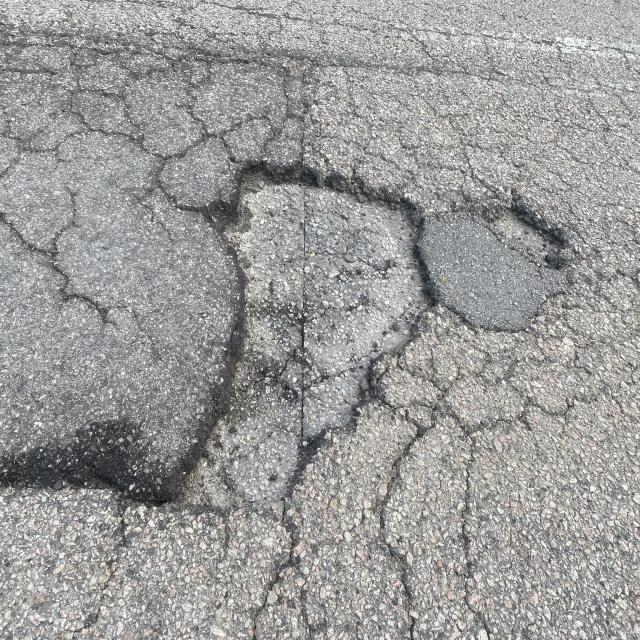pothole: (188, 113, 590, 395)
